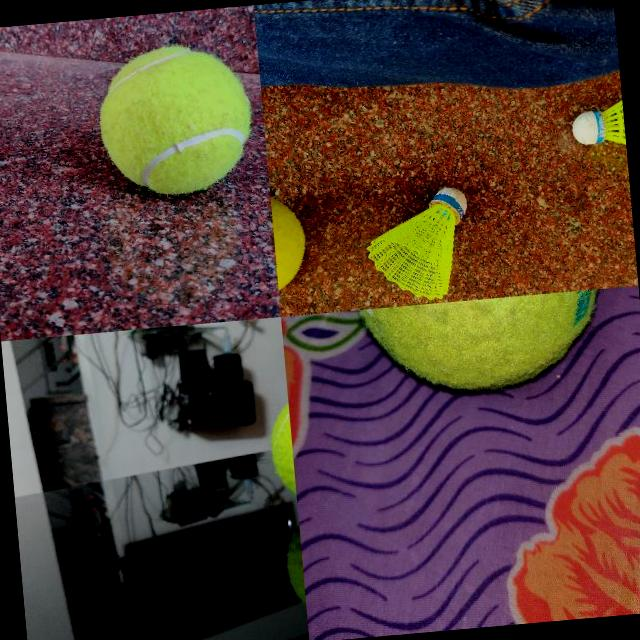tennis-ball: (354, 288, 612, 402), (94, 38, 256, 200), (270, 186, 310, 298)
